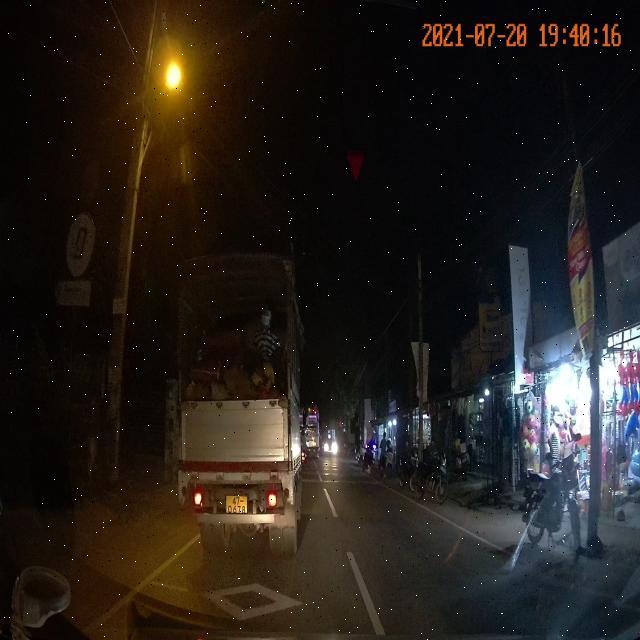diamond: (108, 575, 385, 638)
